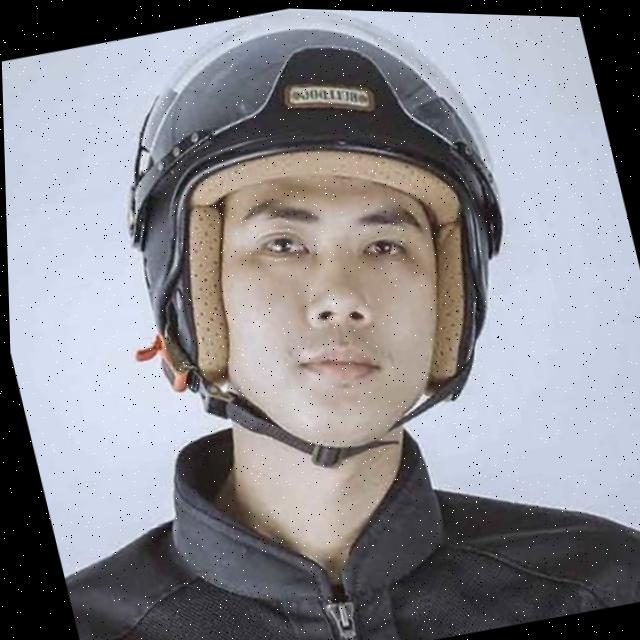helmet: (77, 2, 564, 512)
